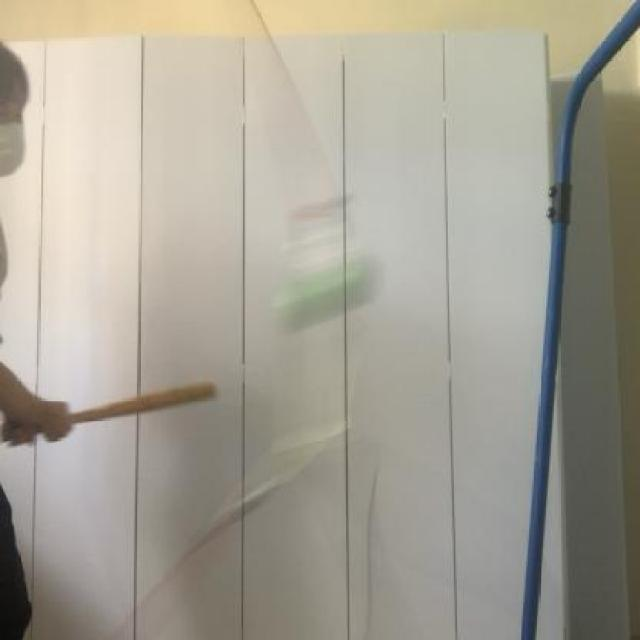baseball: (267, 250, 391, 350)
